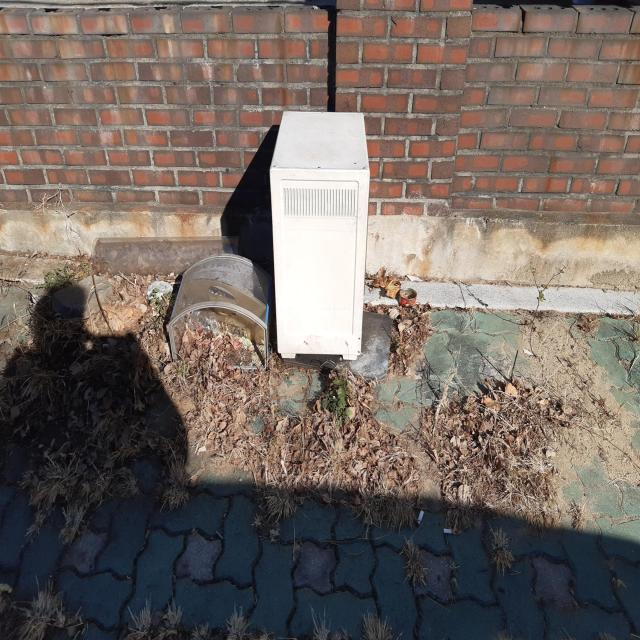refrigerator: (264, 109, 372, 362)
